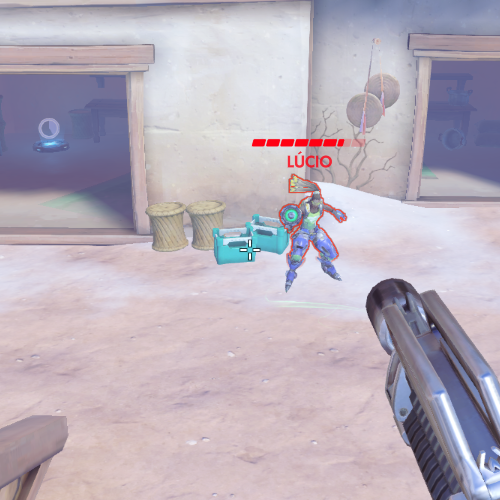hpbar: (251, 138, 367, 148)
